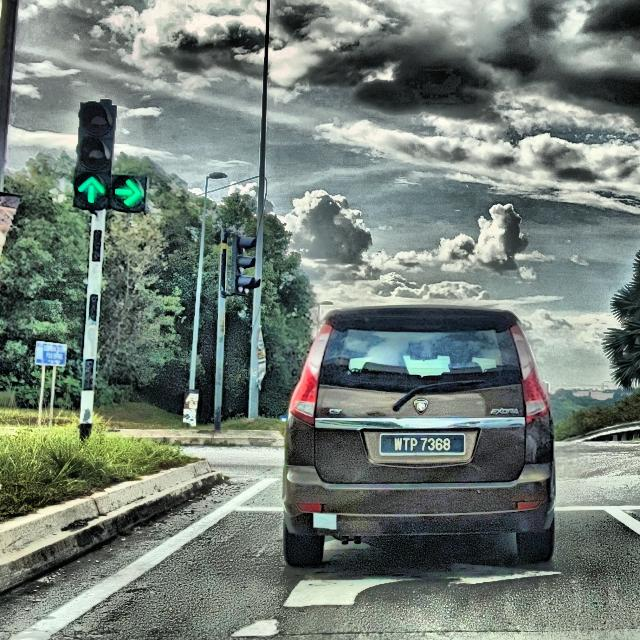green: (74, 102, 118, 208), (112, 105, 148, 210)
